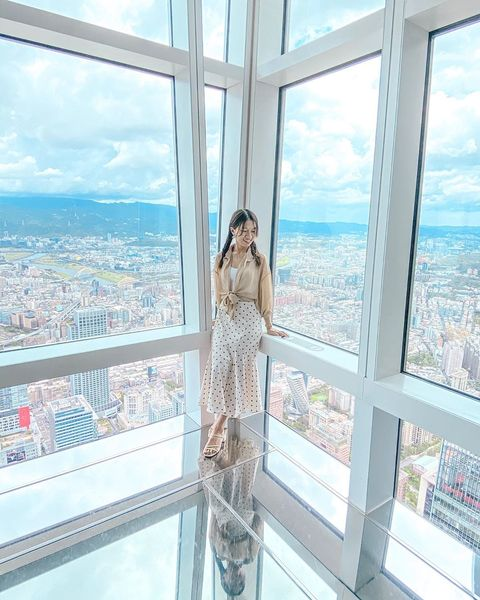people: (204, 210, 278, 457)
